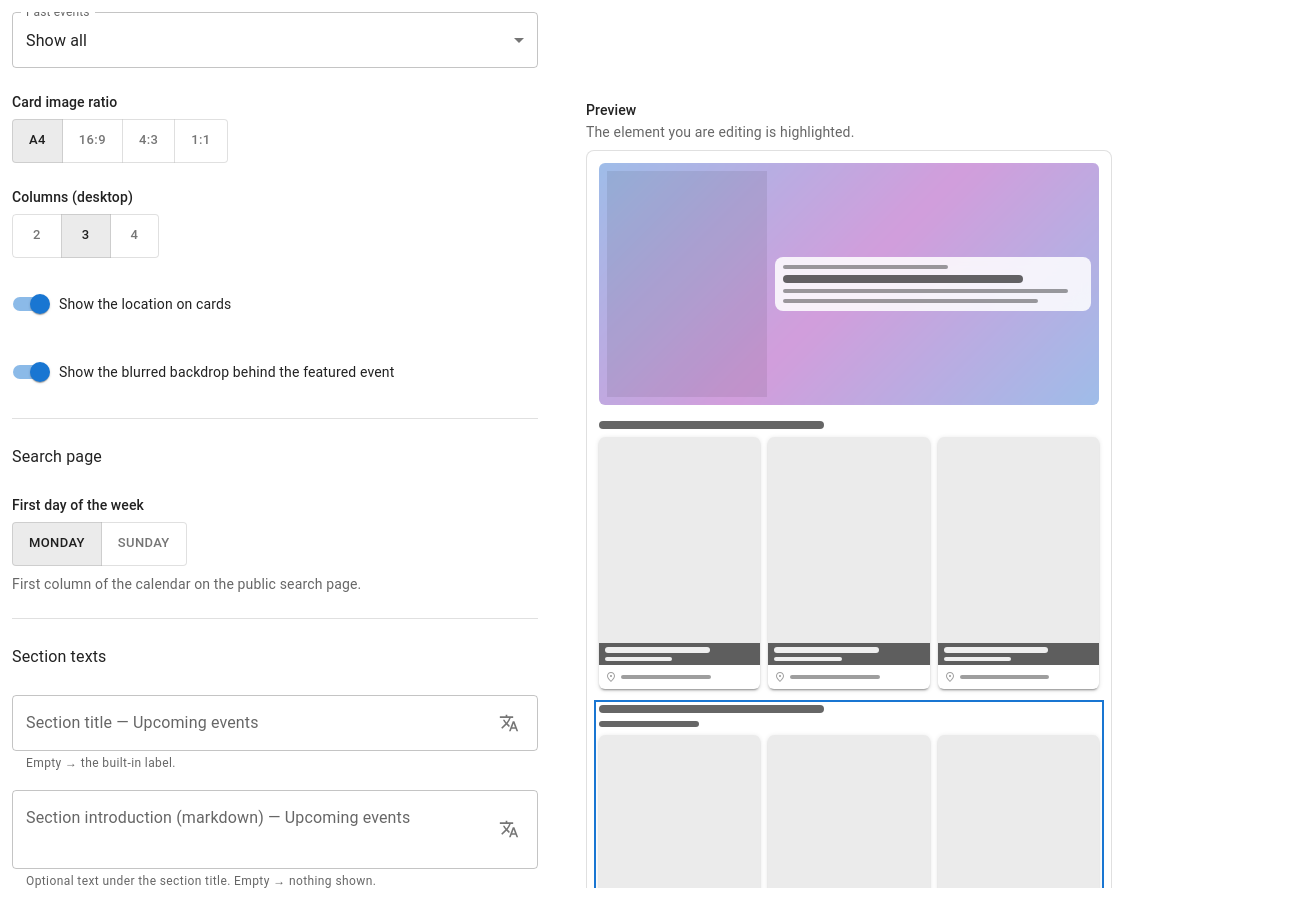
Test case: AgendaDesignEditor (Agenda design tab) › reports a failed write instead of losing it silently
This screenshot has width=1292, height=912.
Step 1. Click the button "4" → click(134, 236), box [110,214,159,258]
Wait 900 ms
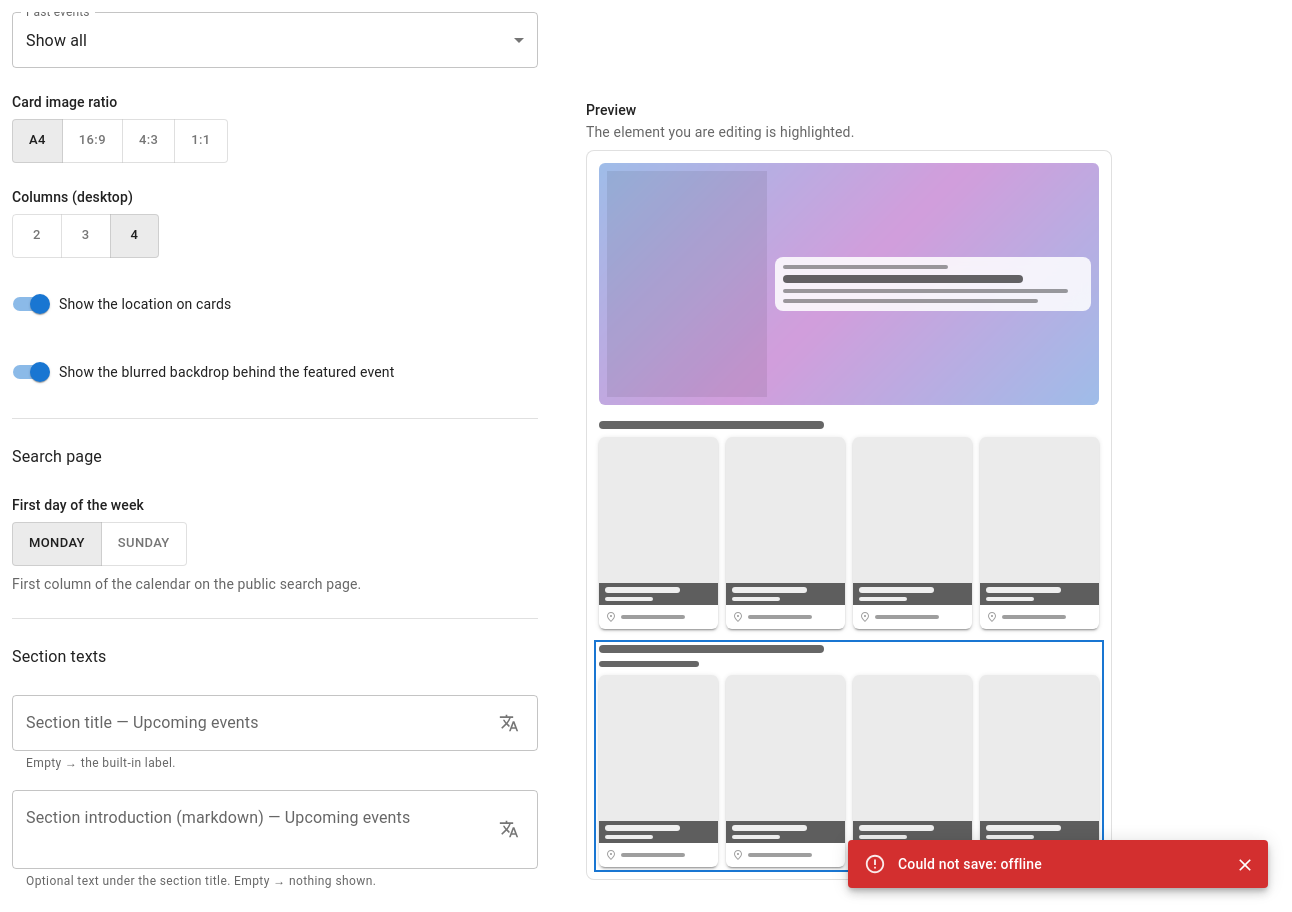
Result: the text "Could not save: offline" is shown at [898,856,1042,872]
